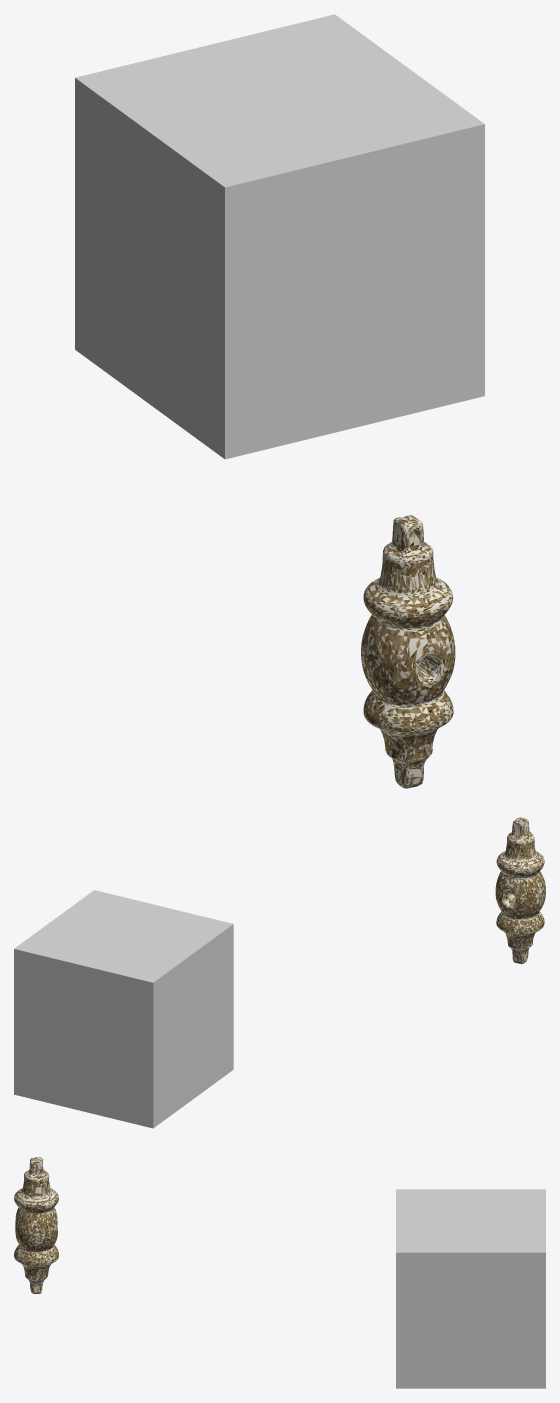
File: fin.glb
The picture shows the model from 3 angles, top to bottom: view 1: azimuth 30°, elevation 25°; view 2: azimuth 150°, elevation 25°; view 3: azimuth 270°, elevation 25°; orthographic projection. The views are drawn at different scales.
Visible parts, largest first — view 1: Cube, tmp_efn3sko.ply; view 2: Cube, tmp_efn3sko.ply; view 3: Cube, tmp_efn3sko.ply.
Boxes of the visible parts, <box> form: Cube: <box>75,14,484,459</box>; tmp_efn3sko.ply: <box>361,515,455,788</box>; Cube: <box>14,890,233,1128</box>; tmp_efn3sko.ply: <box>495,817,545,964</box>; Cube: <box>396,1189,545,1388</box>; tmp_efn3sko.ply: <box>14,1157,58,1293</box>.
Bounding box in the file's own units: 3.66 × 2.15 × 7.09.
2 materials, 1 textured.
